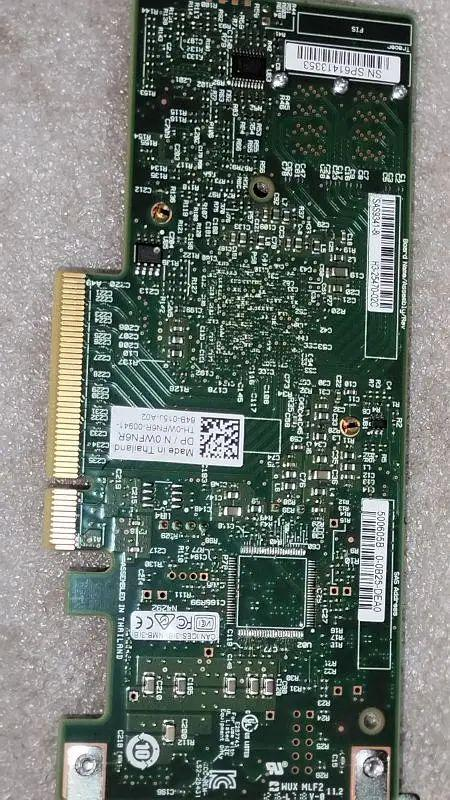electronic: (34, 0, 425, 800)
